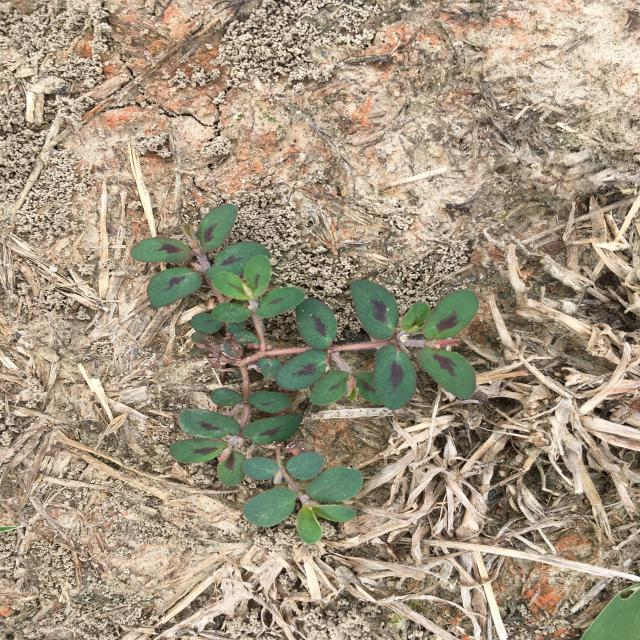SpottedSpurge: (130, 204, 478, 544)
